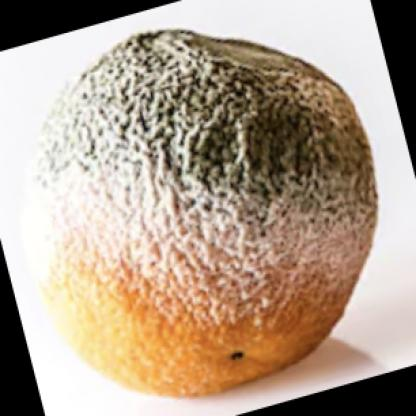rotten: (35, 33, 378, 394)
